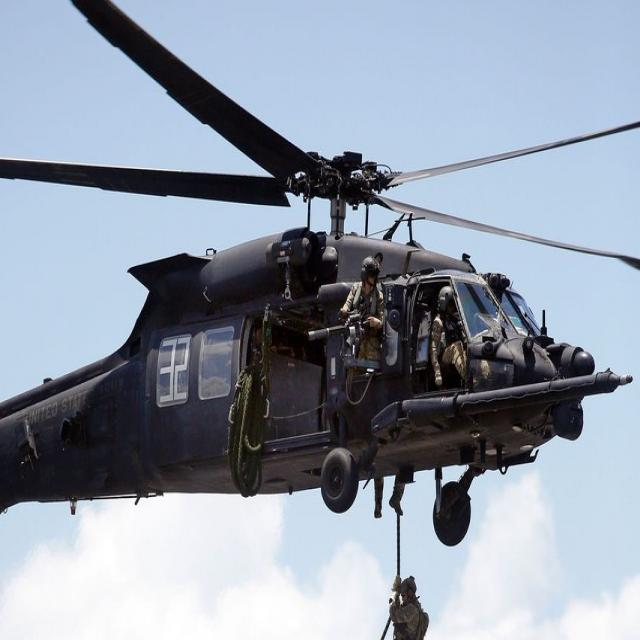helicopter: (1, 10, 640, 597)
